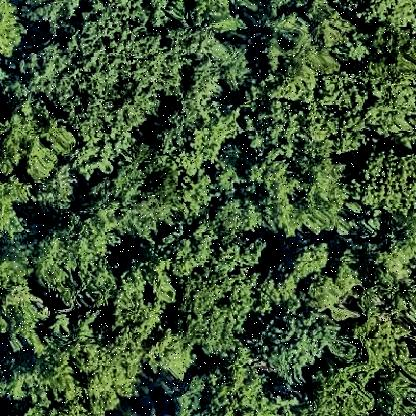tree-top: (38, 15, 182, 139), (9, 320, 149, 416), (175, 228, 257, 368), (249, 137, 354, 239), (254, 69, 372, 153), (248, 299, 357, 383), (96, 138, 185, 233), (35, 212, 121, 308), (176, 356, 292, 416), (1, 96, 72, 185), (262, 6, 351, 76), (160, 98, 244, 172), (354, 139, 416, 217), (310, 356, 379, 416), (3, 253, 45, 345), (363, 74, 416, 140), (361, 16, 416, 75), (300, 272, 350, 318)
